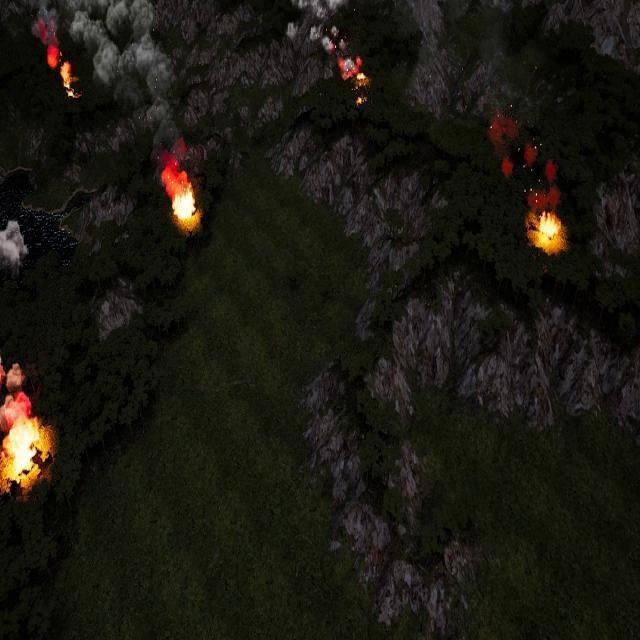fire: (0, 408, 46, 485), (162, 158, 200, 227), (48, 45, 75, 94), (533, 212, 563, 251), (340, 55, 369, 88)
smoke: (30, 0, 187, 151), (486, 101, 556, 213), (286, 0, 348, 56), (1, 358, 34, 433), (0, 218, 28, 277)
